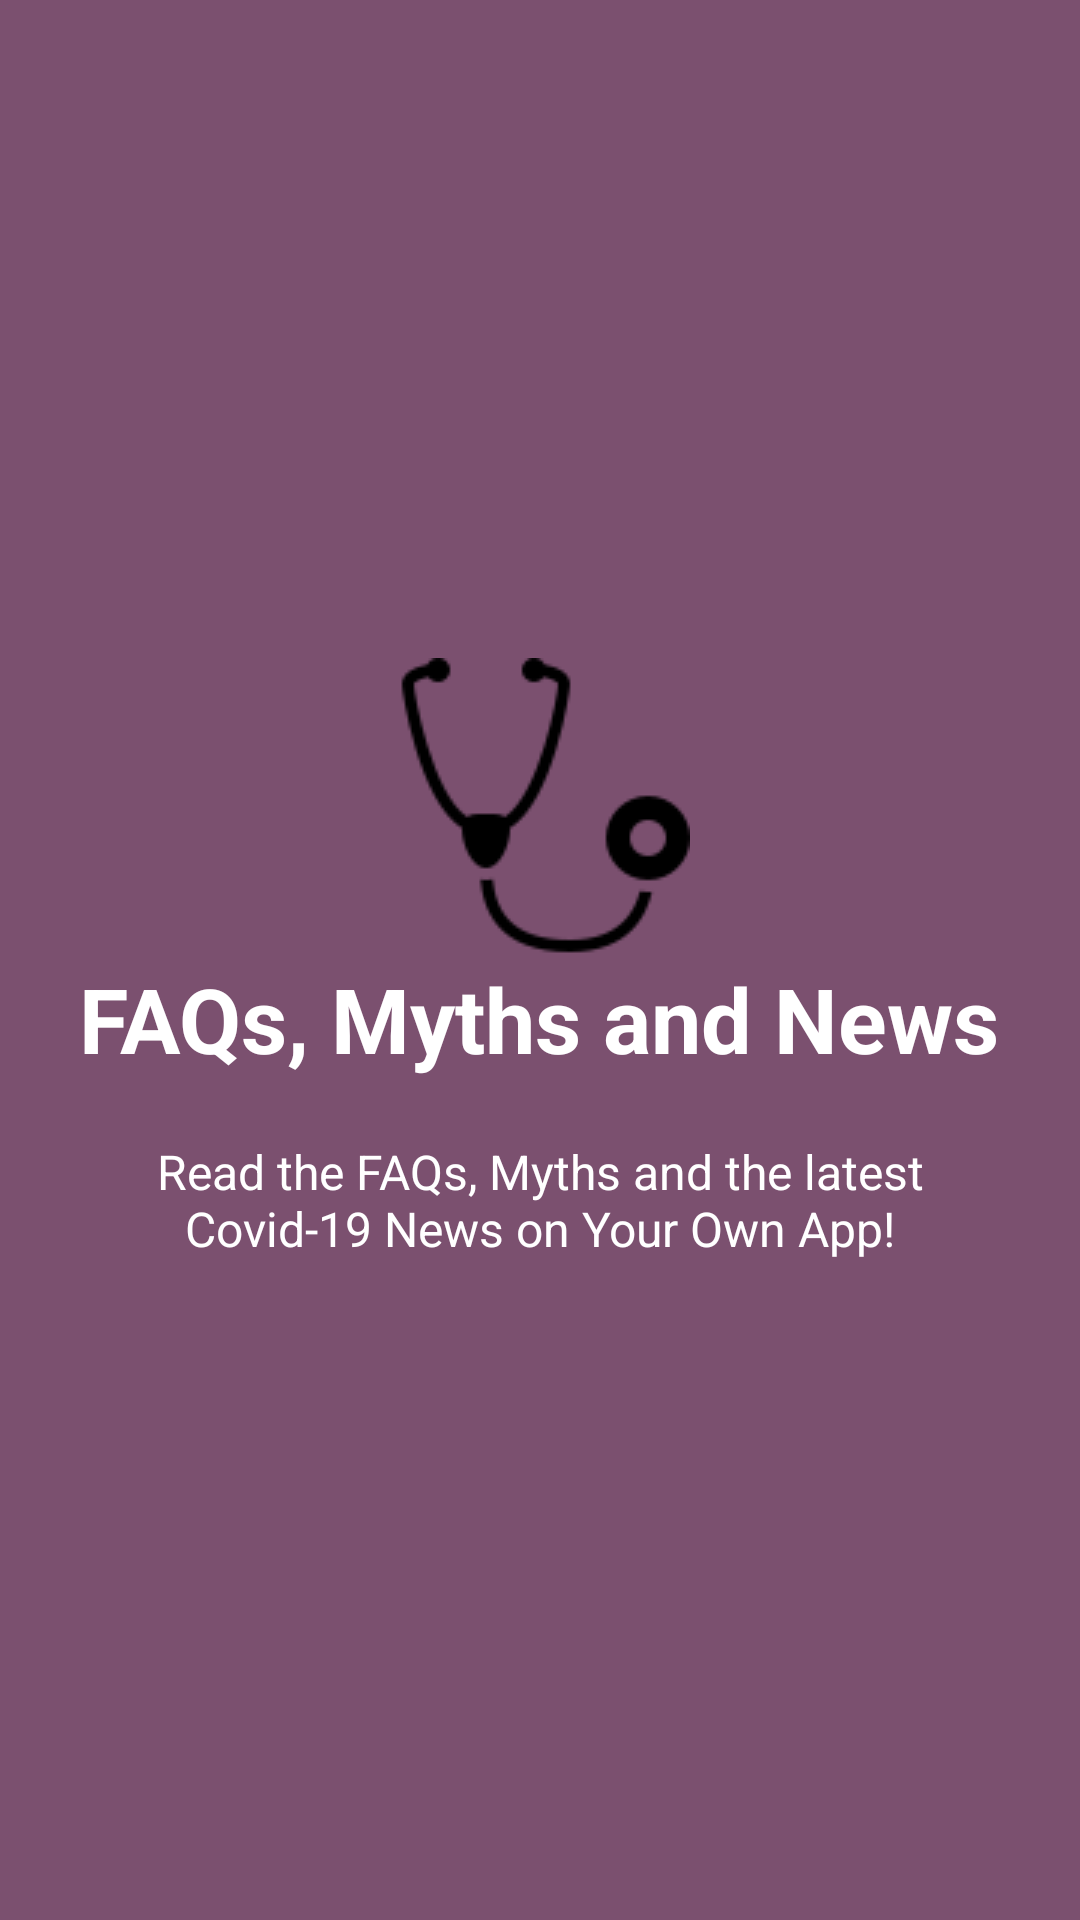

Screen size 1080 x 1920. Icon name, then its center in pixels as point (x, y):
sthe: point (545, 805)
